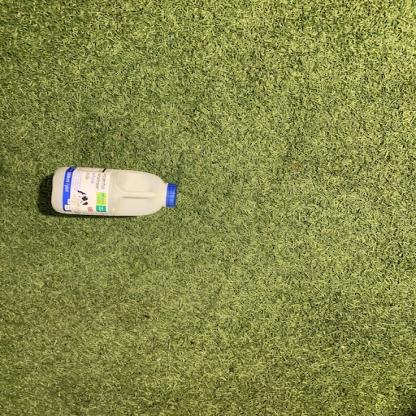trash: (48, 166, 176, 219)
